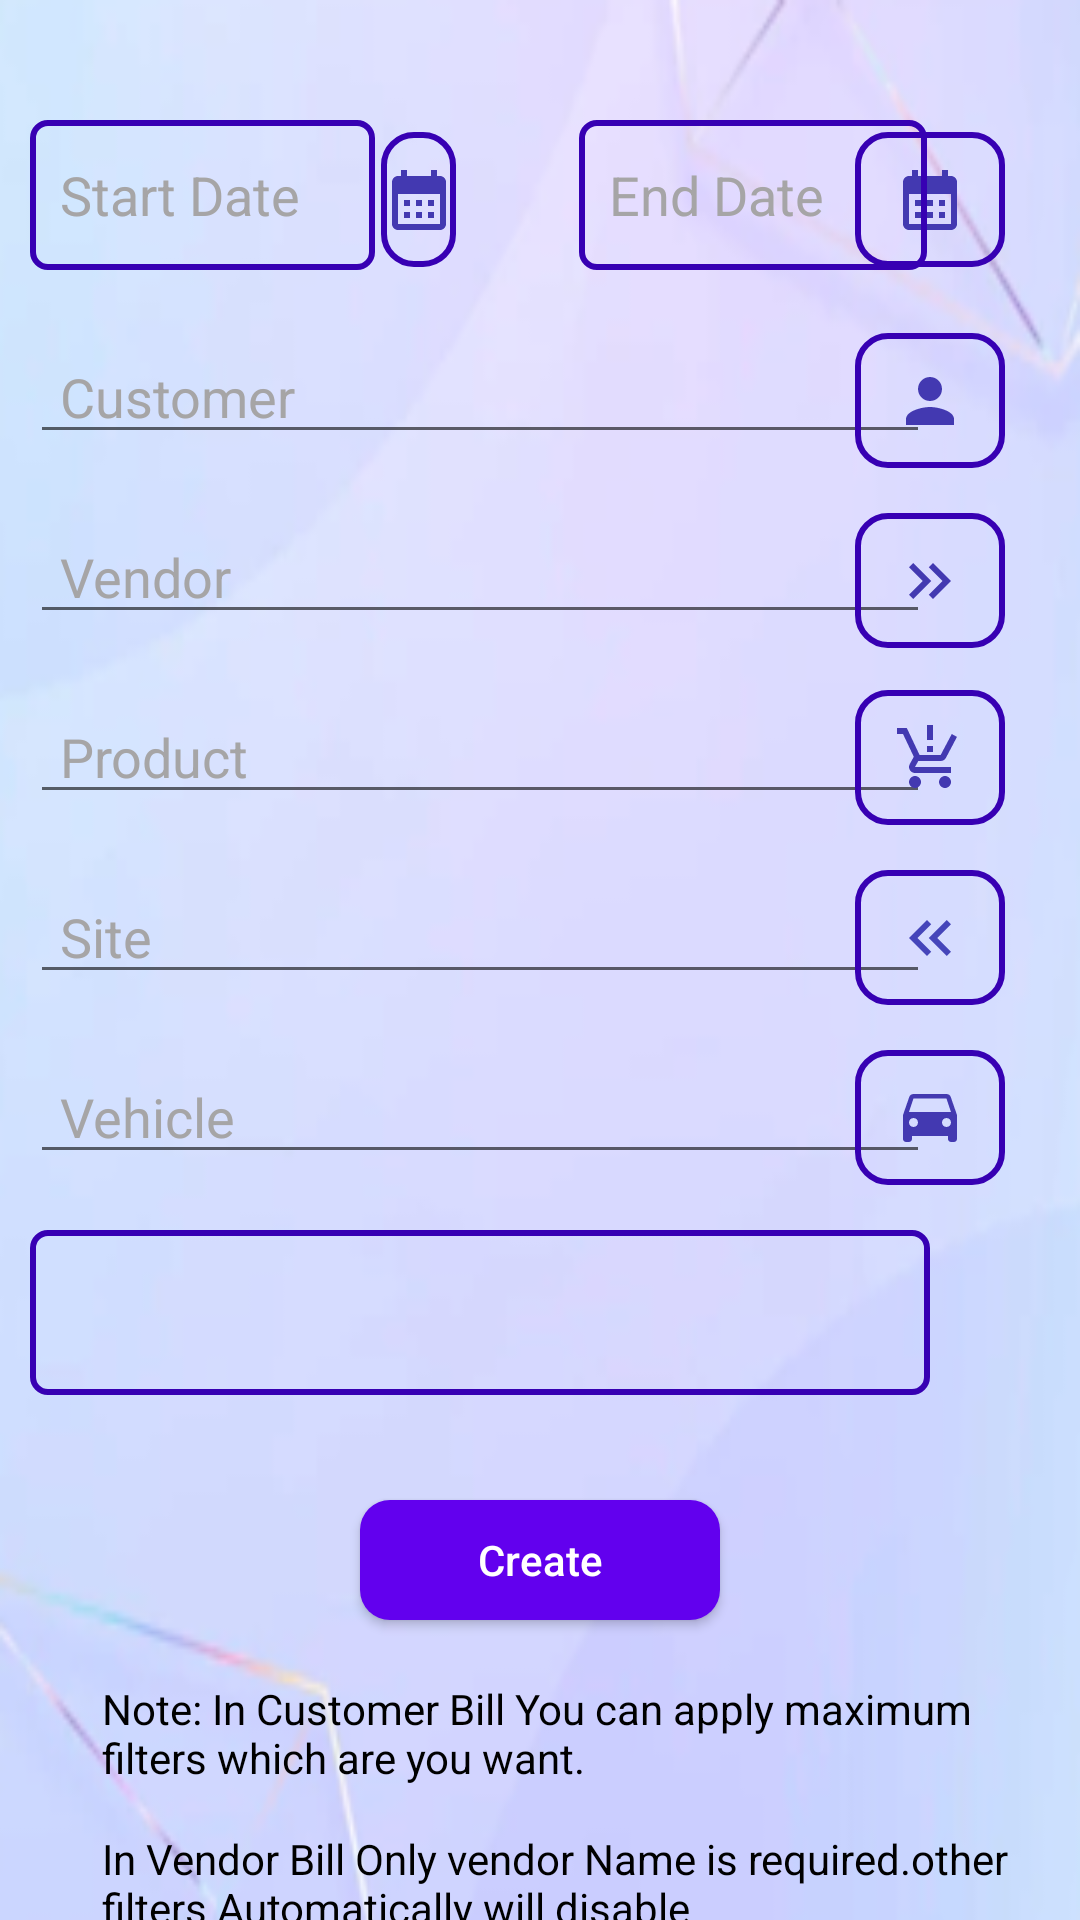

Icon bounding boxes for this 1080px x 1920px phone screenshot, format (x1,y1,x2,y2):
keyboard double arrow left: (855,870,1005,1005)
keyboard double arrow right: (855,513,1005,648)
person: (855,333,1005,468)
time to leave: (855,1050,1005,1185)
